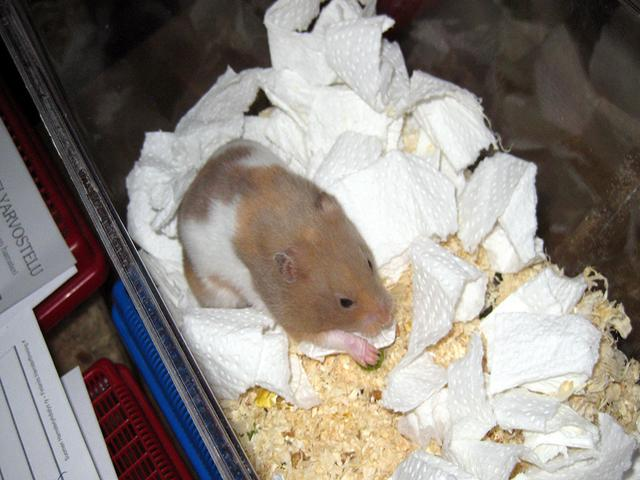mouse: (135, 108, 410, 371)
